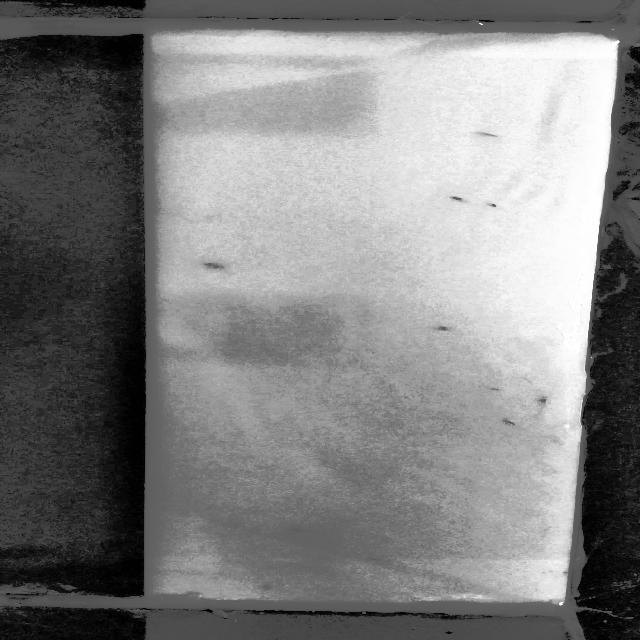shrimp: (208, 263, 252, 279), (470, 126, 508, 140), (288, 523, 322, 537), (198, 257, 231, 269), (371, 554, 397, 567), (482, 200, 509, 212), (263, 583, 288, 595), (446, 194, 468, 205), (505, 422, 531, 431), (535, 395, 560, 404), (442, 321, 459, 334)
